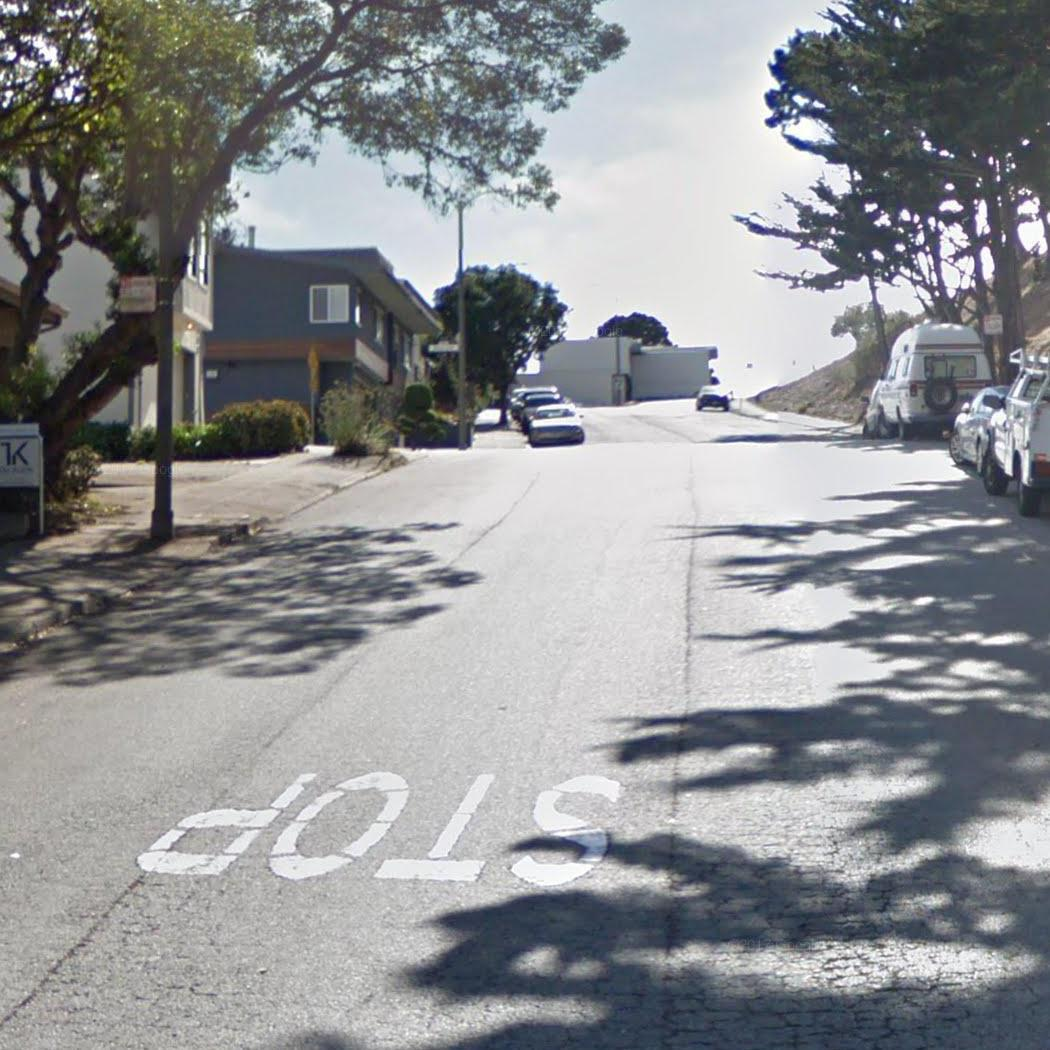No Parking: (112, 271, 168, 318)
